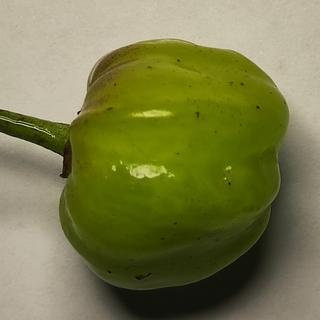Fly-bites: (131, 271, 159, 285), (224, 176, 241, 195), (172, 53, 188, 70), (190, 107, 206, 123), (104, 101, 120, 117), (103, 264, 118, 278), (142, 64, 159, 74), (253, 102, 265, 116), (238, 80, 247, 90)
